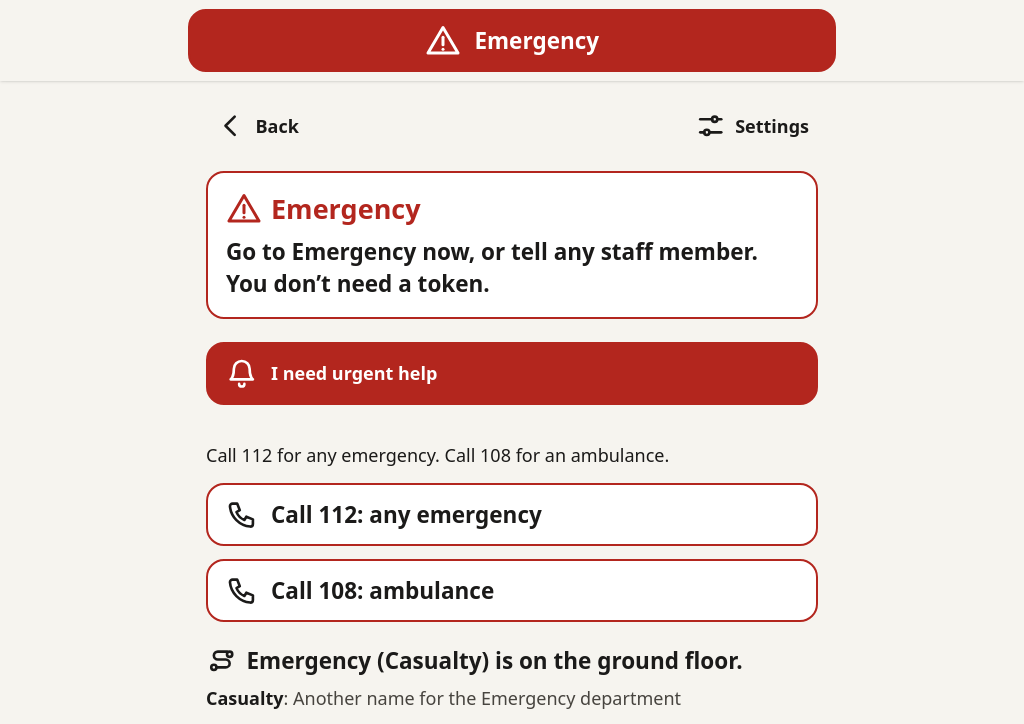
Test: I need urgent help › says staff are being told once the sender confirms
Step 1. Click the button "I need urgent help" → (242, 373), box [206,342,818,404]
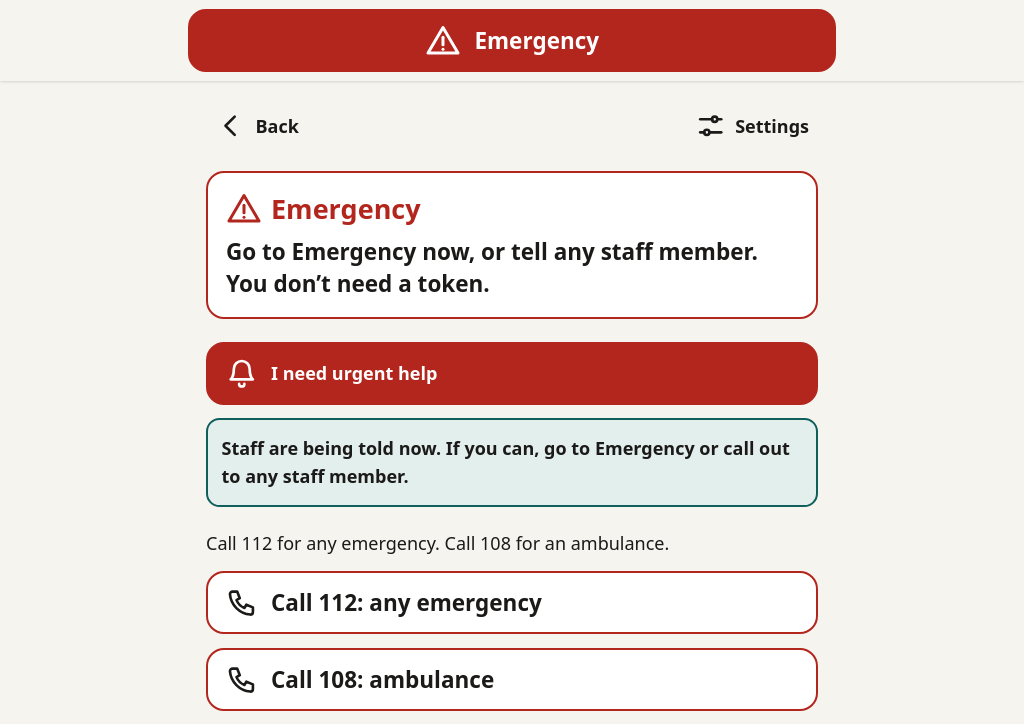
Expected: the message shows "Staff are being told now. If you can, go to Emergency or call out to any staff member.", [222,436,790,488]
